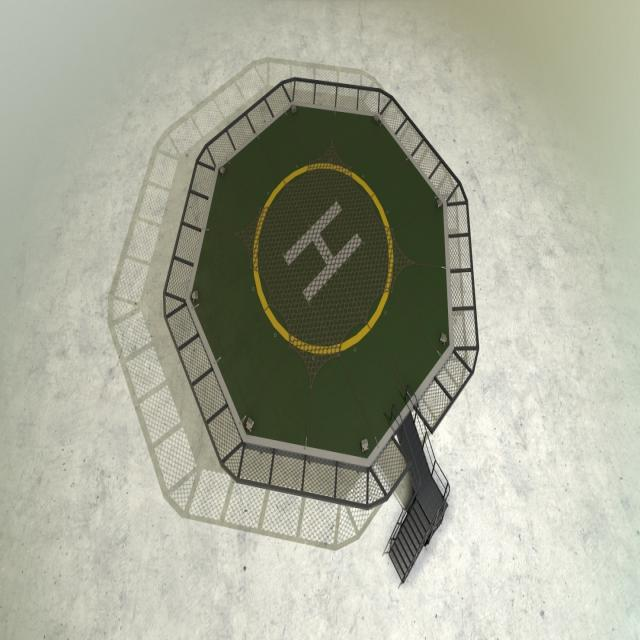helipad: (248, 155, 397, 360)
